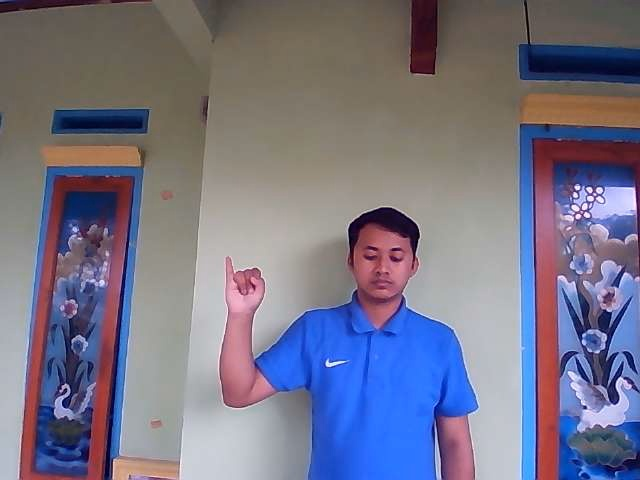I: (223, 254, 267, 313)
